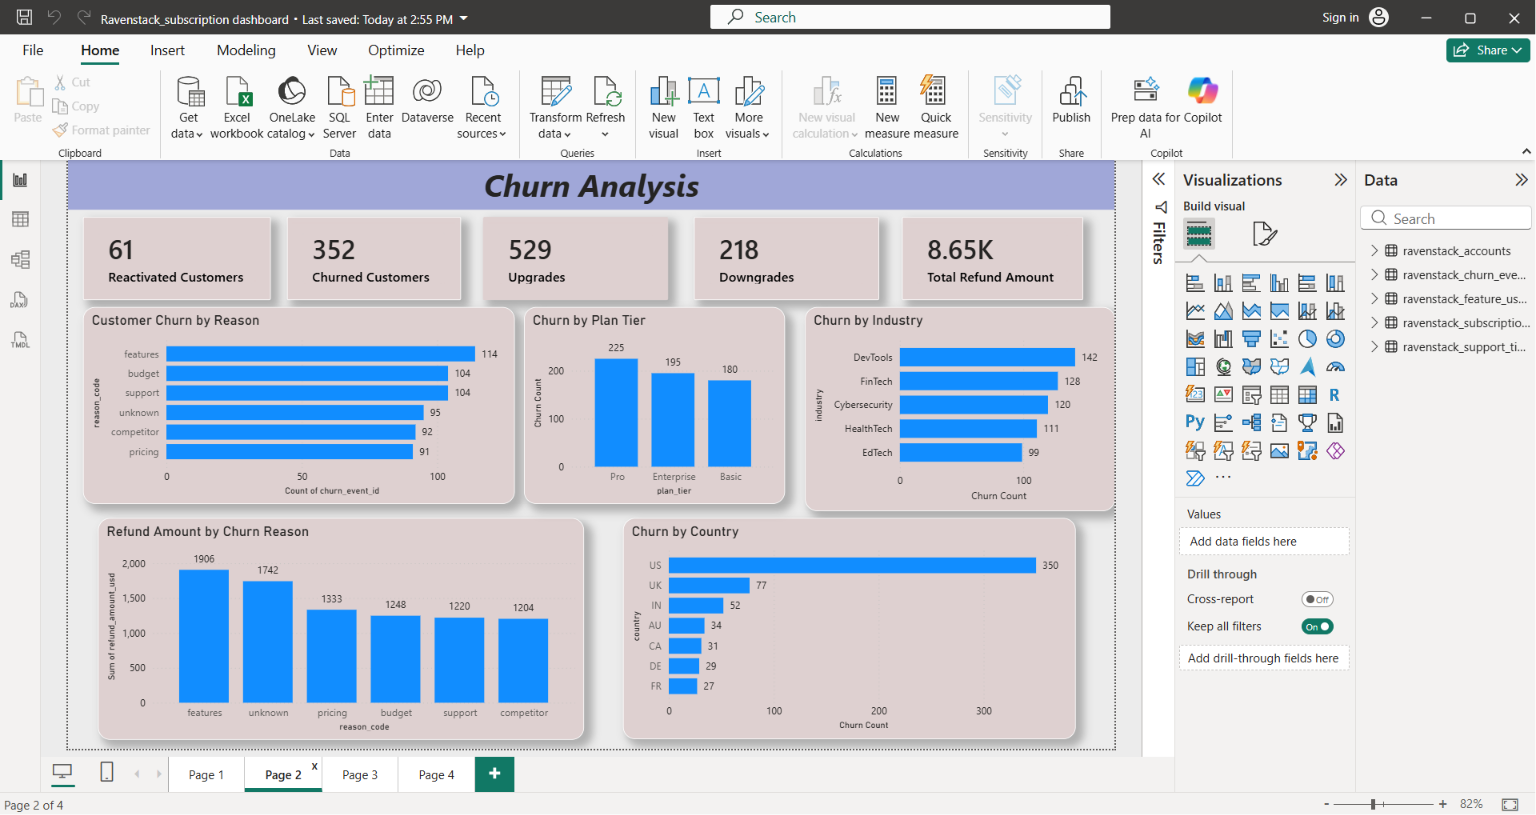

This screenshot's page, from the dashboard's own definition file:
{"tool":"powerbi","page":{"name":"Page 2","canvas":[1280,720],"ordinal":1},"visuals":[{"type":"cardVisual","fields":{"Data":["ravenstack_subscriptions.Reactivated Customers"]},"box":[18.3,69.7,229.9,101.5],"z":0},{"type":"cardVisual","fields":{"Data":["ravenstack_subscriptions.Churned Customers"]},"box":[267.8,69.7,212.8,101.5],"z":1000},{"type":"cardVisual","fields":{"Data":["ravenstack_subscriptions.Upgrades"]},"box":[507.5,69.7,226.2,101.5],"z":2000},{"type":"cardVisual","fields":{"Data":["ravenstack_subscriptions.Total Refund Amount"]},"box":[1019.8,69.7,221.3,101.5],"z":3000},{"type":"cardVisual","fields":{"Data":["ravenstack_subscriptions.Downgrades"]},"box":[765.5,69.7,226.2,101.5],"z":4000},{"type":"clusteredBarChart","title":"Customer Churn by Reason","fields":{"Category":["ravenstack_churn_events.reason_code"],"Y":["CountNonNull(ravenstack_churn_events.churn_event_id)"]},"box":[18.3,179.8,528.3,240.9],"z":5000},{"type":"clusteredColumnChart","title":"Refund Amount by Churn Reason","fields":{"Category":["ravenstack_churn_events.reason_code"],"Y":["Sum(ravenstack_churn_events.refund_amount_usd)"]},"box":[36.7,437.8,594.3,271.5],"z":6000},{"type":"barChart","title":"Churn by Industry","fields":{"Category":["ravenstack_accounts.industry"],"Y":["ravenstack_churn_events.Churn Count"]},"box":[901.2,179.8,379.1,249.5],"z":7000},{"type":"barChart","title":"Churn by Country","fields":{"Category":["ravenstack_accounts.country"],"Y":["ravenstack_churn_events.Churn Count"]},"box":[678.7,437.8,553.9,270.2],"z":8000},{"type":"clusteredColumnChart","title":"Churn by Plan Tier","fields":{"Category":["ravenstack_accounts.plan_tier"],"Y":["ravenstack_churn_events.Churn Count"]},"box":[557.6,179.8,319.2,240.9],"z":9000},{"type":"textbox","box":[0,0,1280.3,61.1],"z":10000}]}

Visuals, with their boxes on the page's 1280x720 design canvas (x1, y1, x2, y2). These are canvas units, not pixel positions in the 1536x815 screenshot, which may show the page scaled, cropped or inside an application window:
cardVisual - ravenstack_subscriptions.Reactivated Customers: box=[18, 70, 248, 171]
cardVisual - ravenstack_subscriptions.Churned Customers: box=[268, 70, 481, 171]
cardVisual - ravenstack_subscriptions.Upgrades: box=[508, 70, 734, 171]
cardVisual - ravenstack_subscriptions.Total Refund Amount: box=[1020, 70, 1241, 171]
cardVisual - ravenstack_subscriptions.Downgrades: box=[766, 70, 992, 171]
"Customer Churn by Reason" clusteredBarChart: box=[18, 180, 547, 421]
"Refund Amount by Churn Reason" clusteredColumnChart: box=[37, 438, 631, 709]
"Churn by Industry" barChart: box=[901, 180, 1280, 429]
"Churn by Country" barChart: box=[679, 438, 1233, 708]
"Churn by Plan Tier" clusteredColumnChart: box=[558, 180, 877, 421]
textbox: box=[0, 0, 1280, 61]
